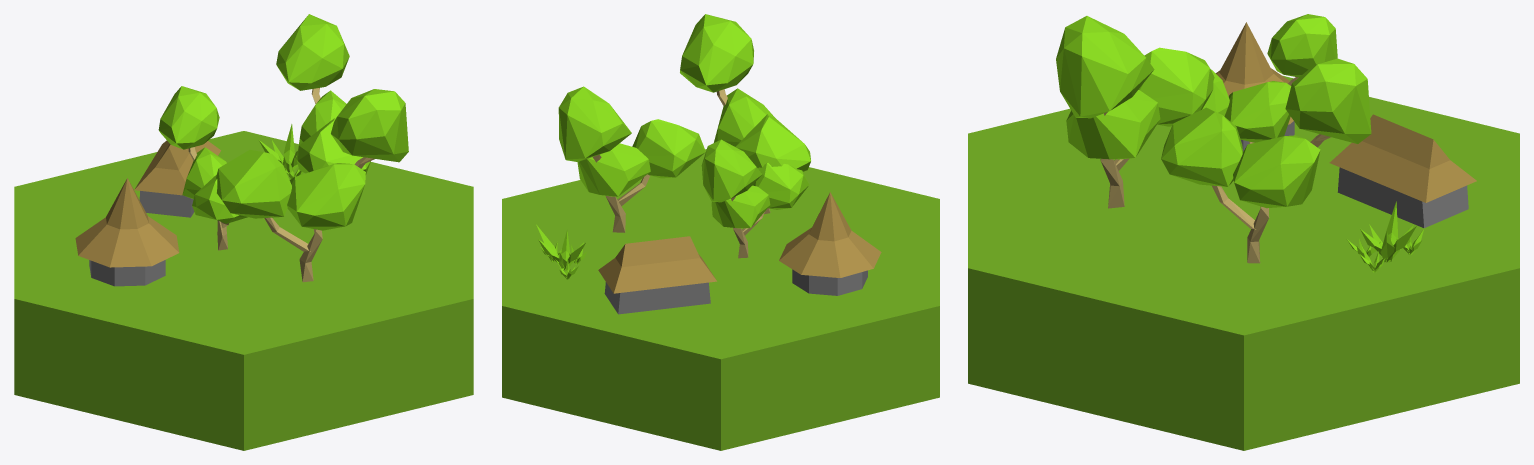
Rendered from Casas_Selva_2.fbx.
The picture shows the model from 3 angles, left to right: view 1: azimuth 30°, elevation 25°; view 2: azimuth 150°, elevation 25°; view 3: azimuth 270°, elevation 25°; orthographic projection. The views are drawn at different scales.
Visible parts, largest first — view 1: Casas_Selva_2; view 2: Casas_Selva_2; view 3: Casas_Selva_2.
Boxes of the visible parts, bbox=[...] form: Casas_Selva_2: bbox=[14, 14, 473, 450]; Casas_Selva_2: bbox=[502, 14, 939, 450]; Casas_Selva_2: bbox=[968, 14, 1519, 450].
Size of the model in its own units: 200 by 115 by 173.
